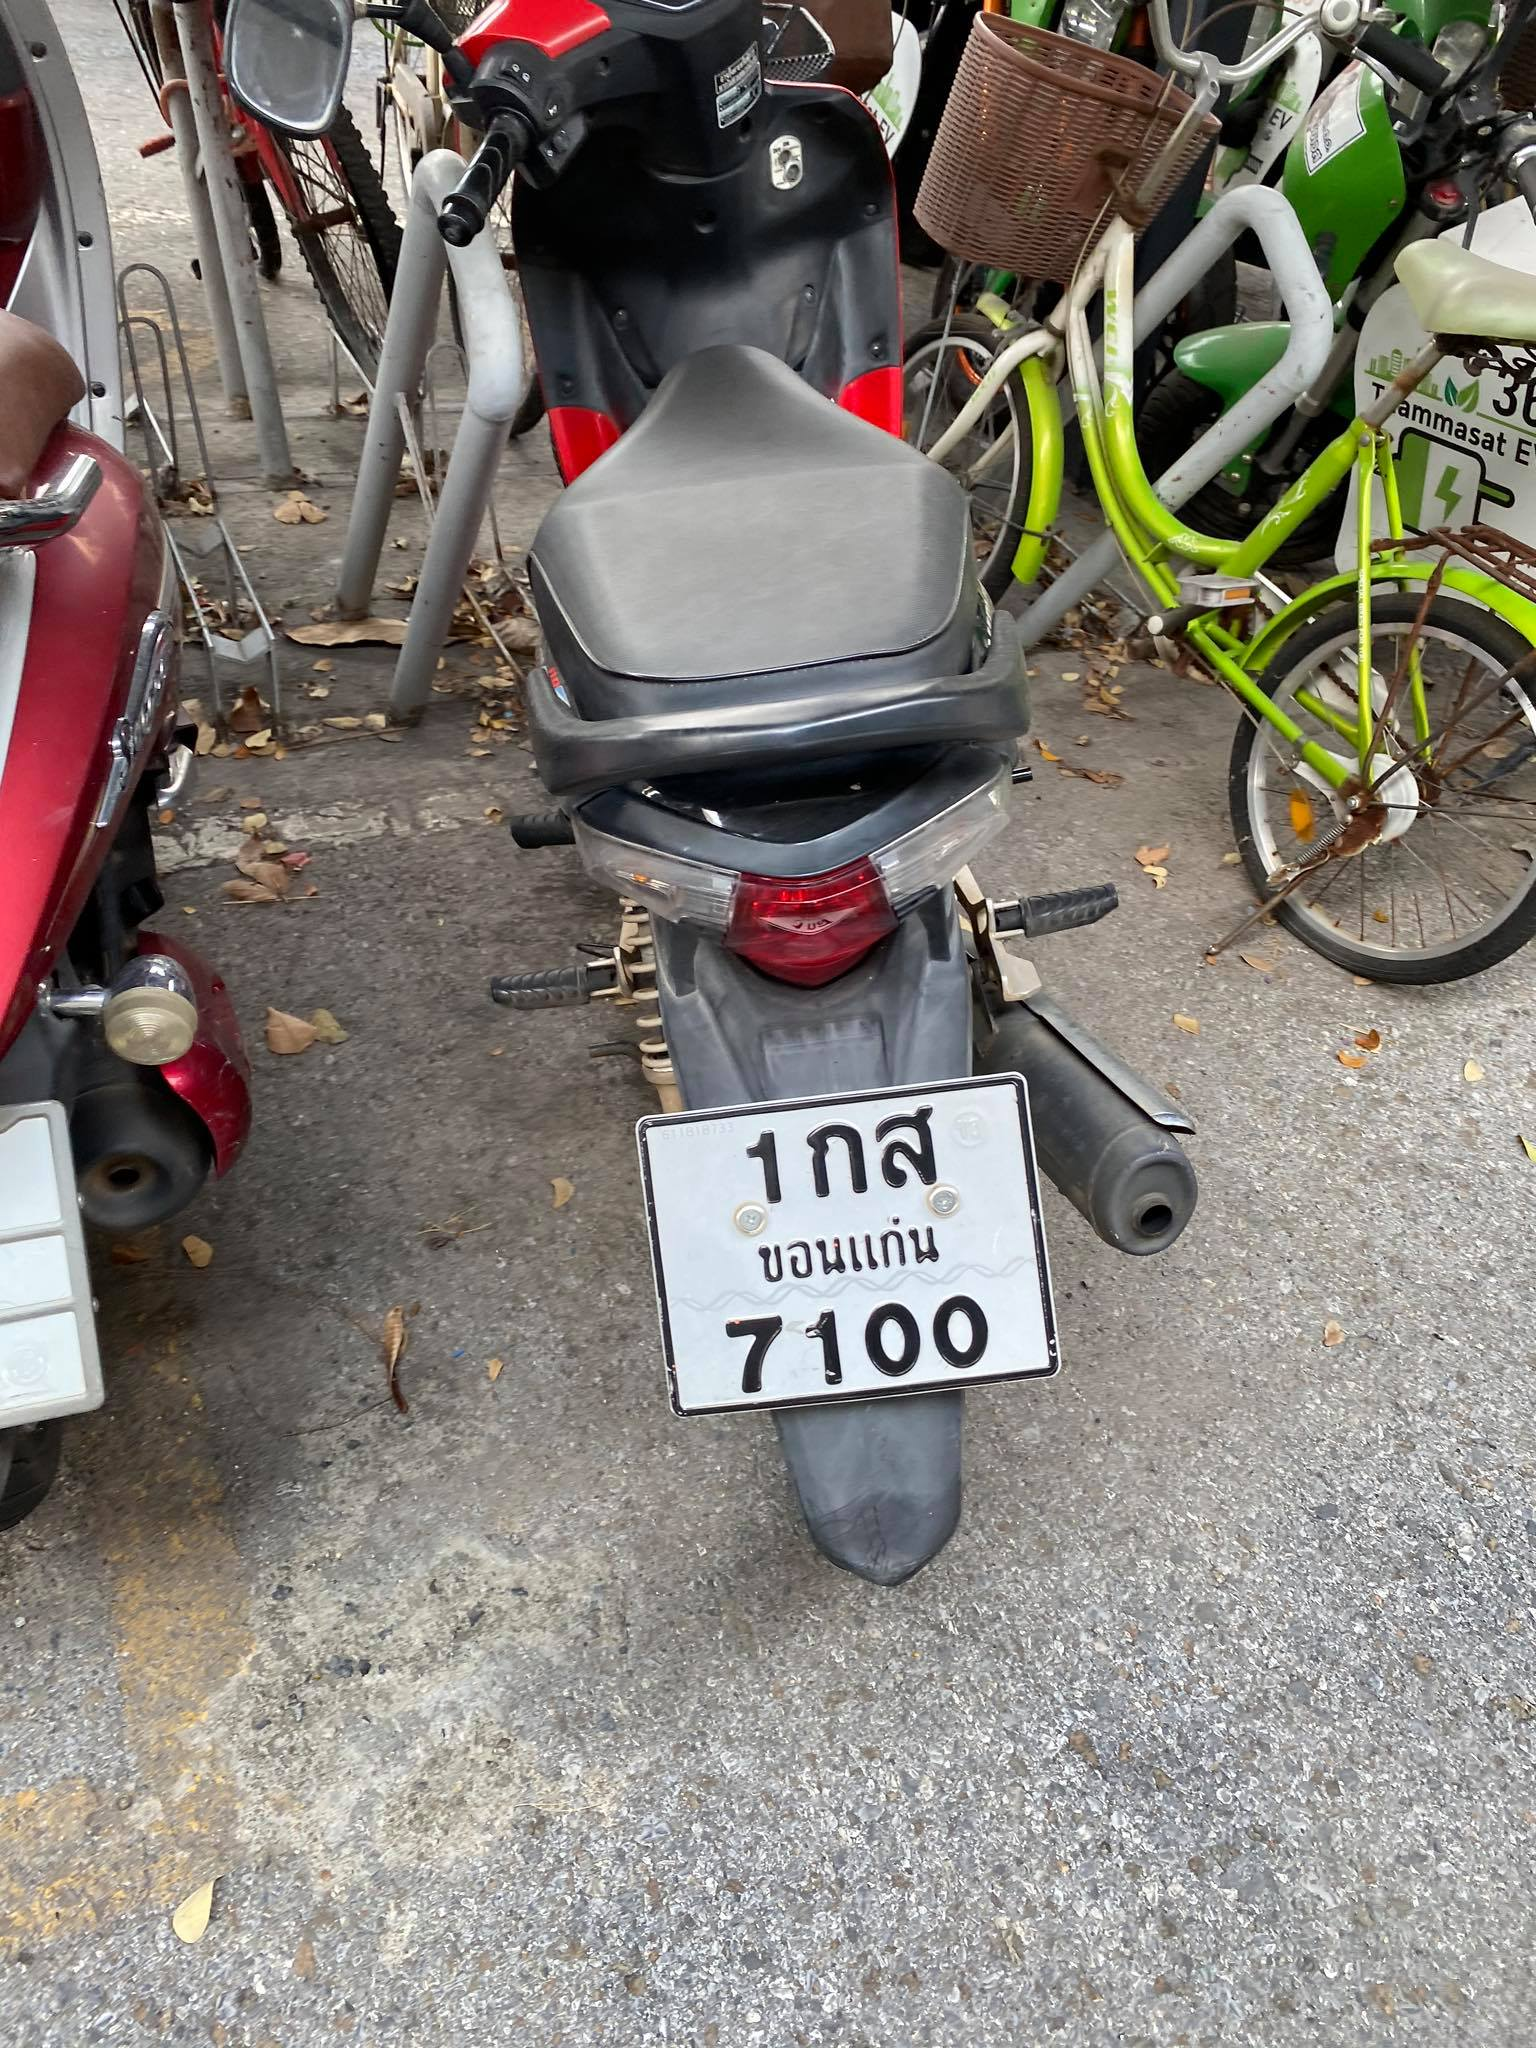line1: (737, 1105, 954, 1201)
line2: (753, 1211, 950, 1285)
line3: (700, 1292, 1016, 1395)
